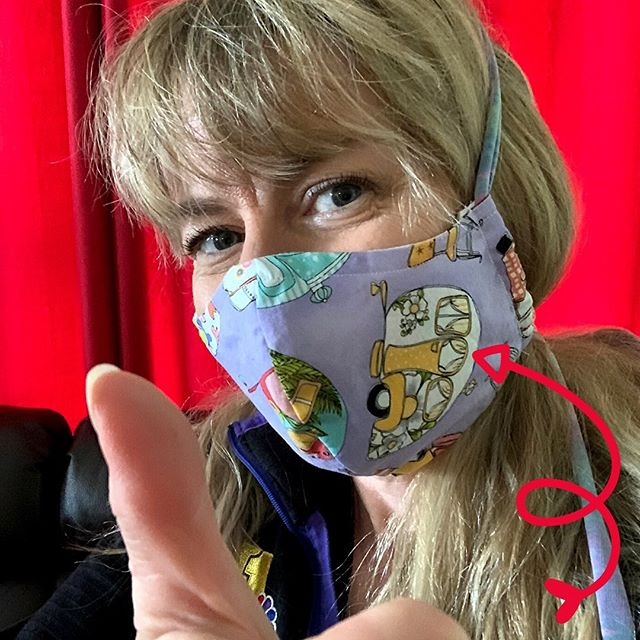homemade: (177, 206, 526, 469)
